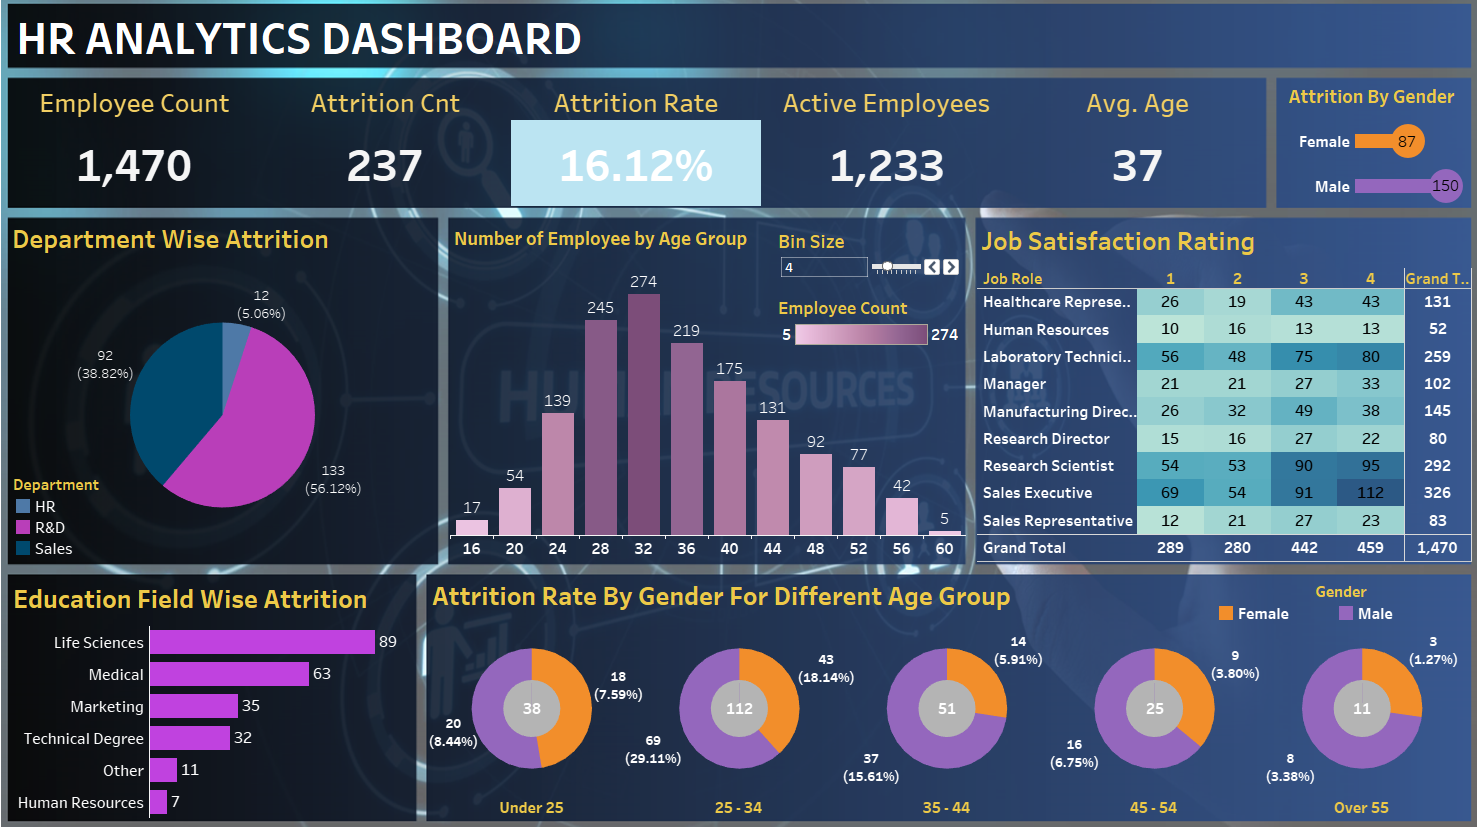

The dashboard page shown, as its layout file describes it:
{"tool":"tableau","page":{"name":"HR ANALYTICS DASHBOARD","canvas":[1500,900],"ordinal":0},"visuals":[{"type":"image","param":"Image/HR background.png","box":[8,8,1484,884]},{"type":"text","box":[24,20,695,62]},{"type":"worksheet","title":"Attrition By Gender","mark":"Automatic","rows":["Gender"],"cols":["Calculation_1848164736369336320","Calculation_1848164736369336320"],"box":[1286,94,193,129]},{"type":"worksheet","title":"KPI","mark":"Automatic","box":[20,95,1254,126]},{"type":"worksheet","title":"Department Wise Attrition","mark":"Pie","box":[19,232,429,347]},{"type":"worksheet","title":"Job Satisfaction Rating","mark":"Square","rows":["Job Role"],"cols":["Job Satisfaction"],"box":[988,234,495,343]},{"type":"worksheet","title":"Number of Employee by Age Group","mark":"Bar","rows":["Employee Count"],"cols":["Age (bin)"],"box":[461,236,516,339]},{"type":"parameter","param":"[Parameters].[Parameter 1]","box":[789,243,184,56]},{"type":"legend","title":"Number of Employee by Age Group","param":"[federated.0498fqs19zr9uv15uid9r13v8cpn].[sum:Employee Count:qk]","box":[789,310,185,58]},{"type":"legend","title":"Department Wise Attrition","param":"[federated.0498fqs19zr9uv15uid9r13v8cpn].[none:Department:nk]","box":[24,489,140,85]},{"type":"worksheet","title":"Attrition Rate By Gender For Different Age Group","mark":"Pie","rows":["Calculation_1848164736379727879","Calculation_1848164736379801608"],"cols":["CF_age band"],"box":[439,589,1038,245]},{"type":"worksheet","title":"Education Field Wise Attrition","mark":"Bar","rows":["Education Field"],"cols":["Calculation_1848164736369336320"],"box":[20,592,404,241]},{"type":"legend","title":"Attrition Rate By Gender For Different Age Group","param":"[federated.0498fqs19zr9uv15uid9r13v8cpn].[none:Gender:nk]","box":[1227,596,250,50]}]}

Visuals, with their boxes on the page's 1500x900 design canvas (x1, y1, x2, y2). These are canvas units, not pixel positions in the 1477x827 screenshot, which may show the page scaled, cropped or inside an application window:
image: locate(8, 8, 1492, 892)
text: locate(24, 20, 719, 82)
"Attrition By Gender" worksheet: locate(1286, 94, 1479, 223)
"KPI" worksheet: locate(20, 95, 1274, 221)
"Department Wise Attrition" worksheet (Pie marks): locate(19, 232, 448, 579)
"Job Satisfaction Rating" worksheet (Square marks): locate(988, 234, 1483, 577)
"Number of Employee by Age Group" worksheet (Bar marks): locate(461, 236, 977, 575)
parameter: locate(789, 243, 973, 299)
"Number of Employee by Age Group" legend: locate(789, 310, 974, 368)
"Department Wise Attrition" legend: locate(24, 489, 164, 574)
"Attrition Rate By Gender For Different Age Group" worksheet (Pie marks): locate(439, 589, 1477, 834)
"Education Field Wise Attrition" worksheet (Bar marks): locate(20, 592, 424, 833)
"Attrition Rate By Gender For Different Age Group" legend: locate(1227, 596, 1477, 646)
